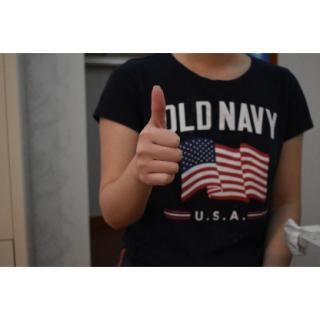ALIF: (128, 84, 184, 190)
